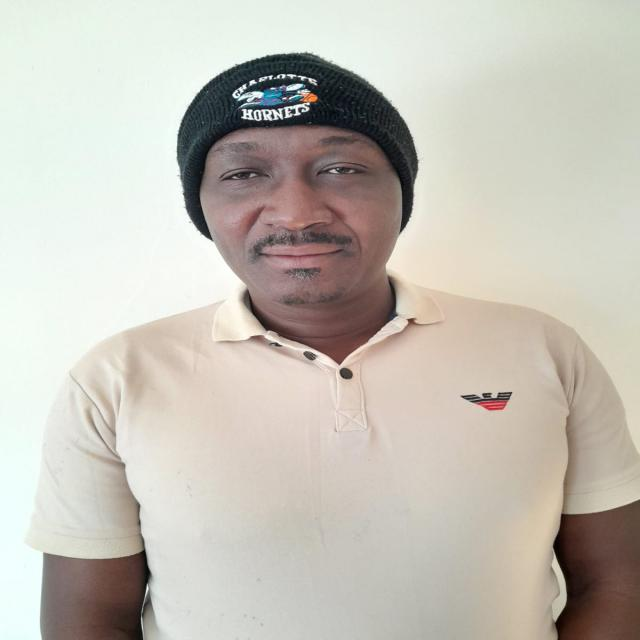sad: (160, 50, 421, 334)
